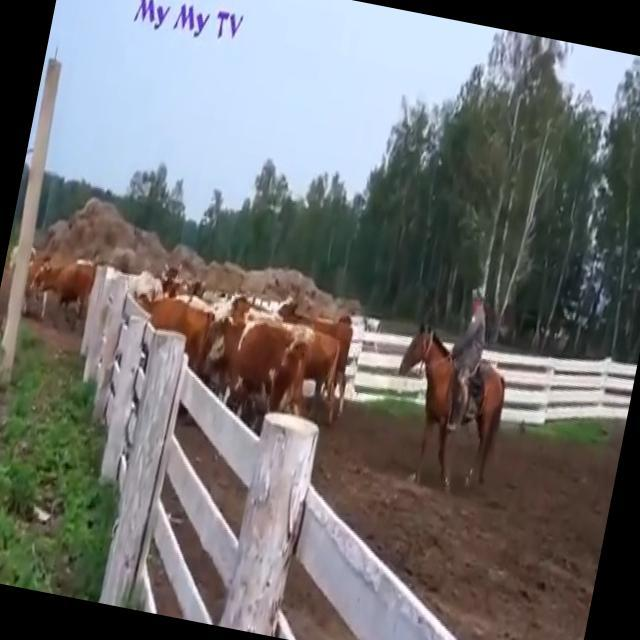COW: (197, 308, 315, 424), (26, 242, 110, 330)
